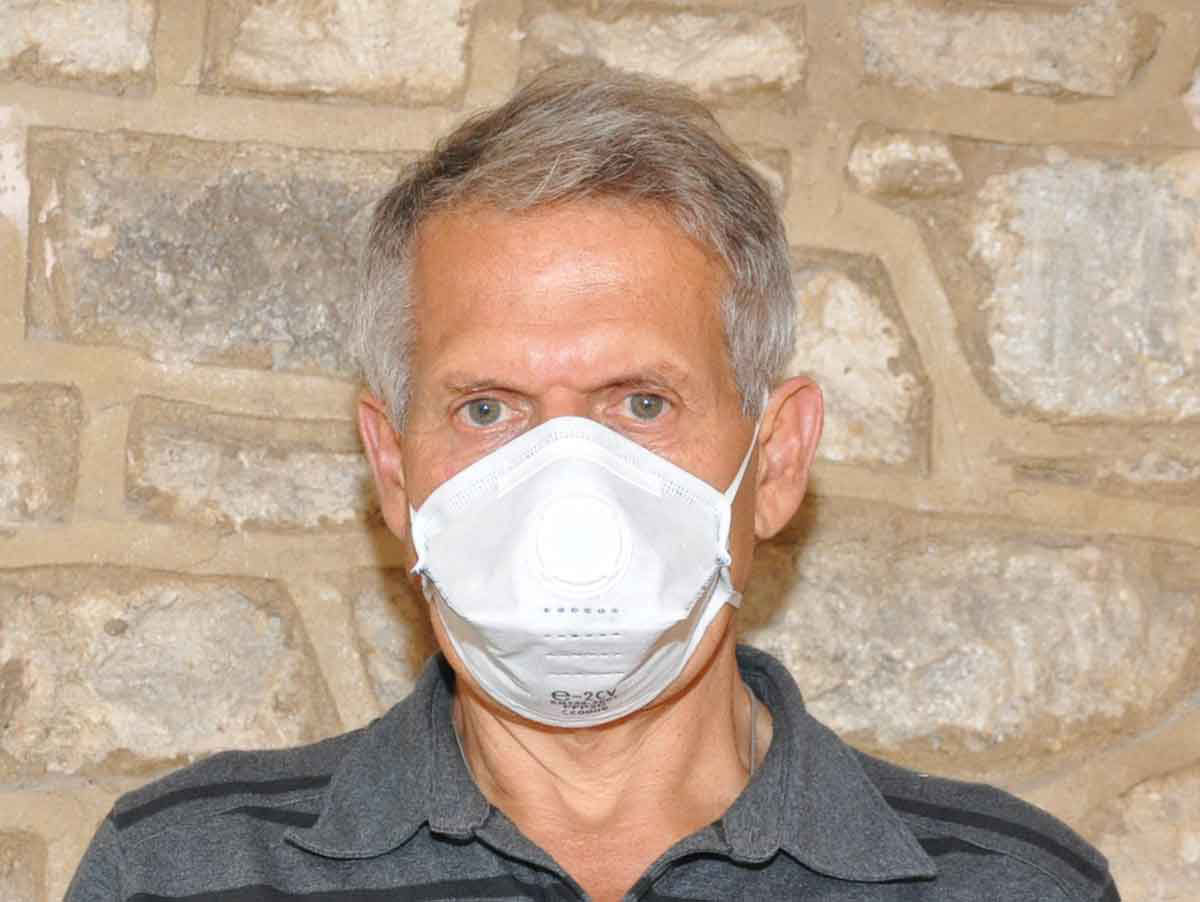mask: (415, 454, 744, 725)
